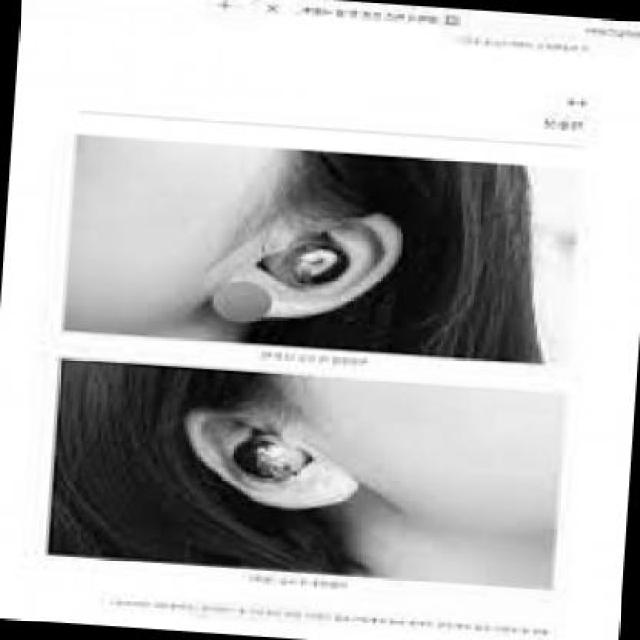earphone: (234, 416, 323, 486), (283, 242, 354, 294)
